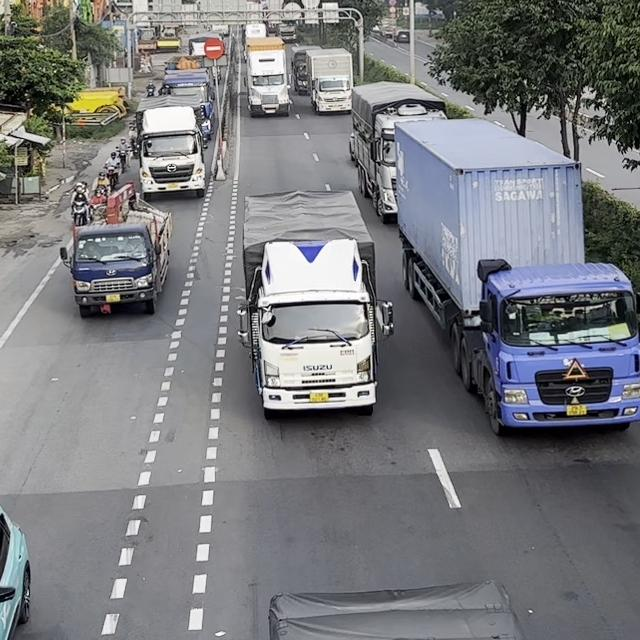car: (0, 499, 32, 639)
motorcycle: (71, 198, 90, 226), (104, 163, 119, 189)
truck: (393, 116, 639, 436), (235, 187, 394, 417), (267, 579, 530, 639), (59, 181, 172, 318), (348, 80, 448, 223), (137, 95, 207, 199), (245, 37, 292, 117), (305, 47, 353, 114), (290, 44, 322, 95)
